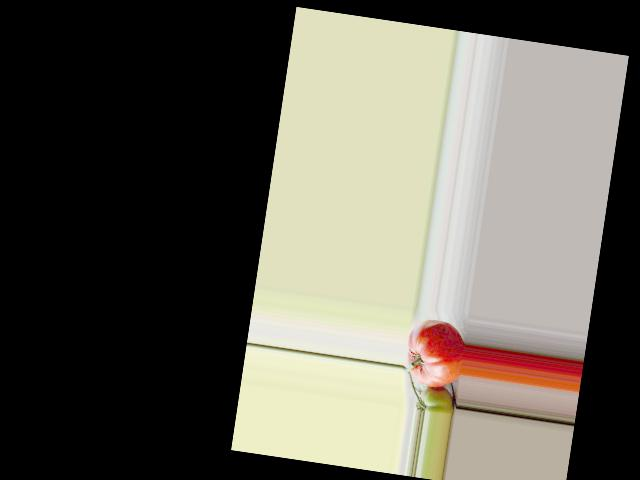tomato: (402, 315, 469, 390)
